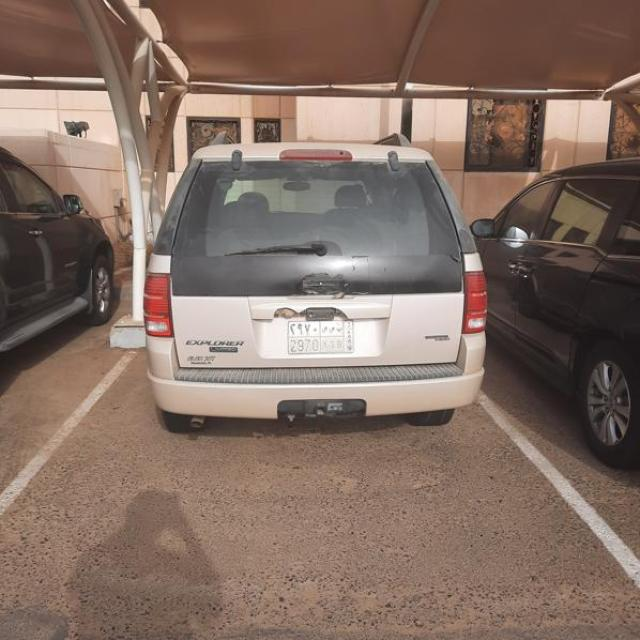license_plate: (288, 320, 354, 353)
